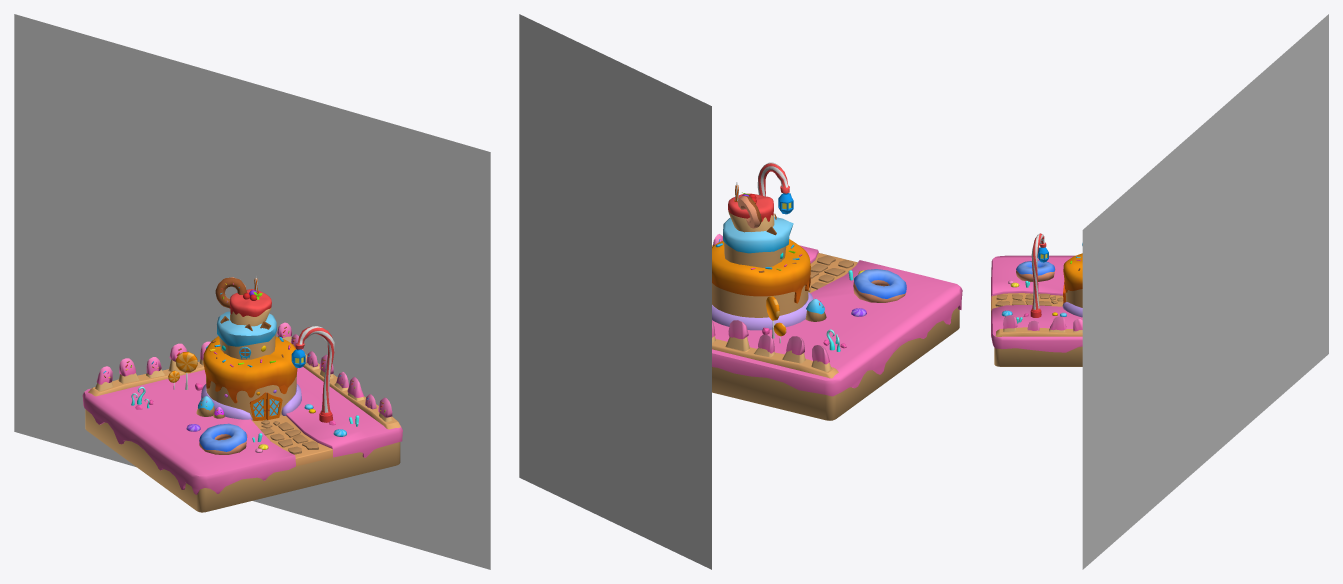
The model's file is Environments.fbx.
3 renders of one model, left to right at view 1: azimuth 30°, elevation 25°; view 2: azimuth 150°, elevation 25°; view 3: azimuth 270°, elevation 25°, orthographic. The views are drawn at different scales.
Visible parts, largest first — view 1: rainbow, ground, house, fence01, fence02, streetLamp, donut; view 2: rainbow, ground, house, fence01, donut, streetLamp; view 3: rainbow, ground, fence02, house, streetLamp, donut.
Boxes of the visible parts, x1,y1,x2,y2 form: rainbow: [14, 14, 490, 569]; ground: [82, 367, 402, 512]; house: [201, 276, 301, 420]; fence01: [88, 322, 292, 396]; fence02: [291, 334, 400, 429]; streetLamp: [291, 326, 334, 422]; donut: [199, 423, 247, 454]; rainbow: [519, 14, 711, 569]; ground: [712, 245, 962, 420]; house: [712, 182, 813, 330]; fence01: [712, 320, 838, 378]; donut: [853, 269, 906, 302]; streetLamp: [757, 162, 793, 214]; rainbow: [1082, 14, 1328, 569]; ground: [991, 255, 1082, 366]; fence02: [995, 315, 1082, 336]; house: [1062, 243, 1082, 317]; streetLamp: [1030, 233, 1048, 317]; donut: [1016, 260, 1055, 281].
Bounding box in the file's own units: 344 × 494 × 354.
